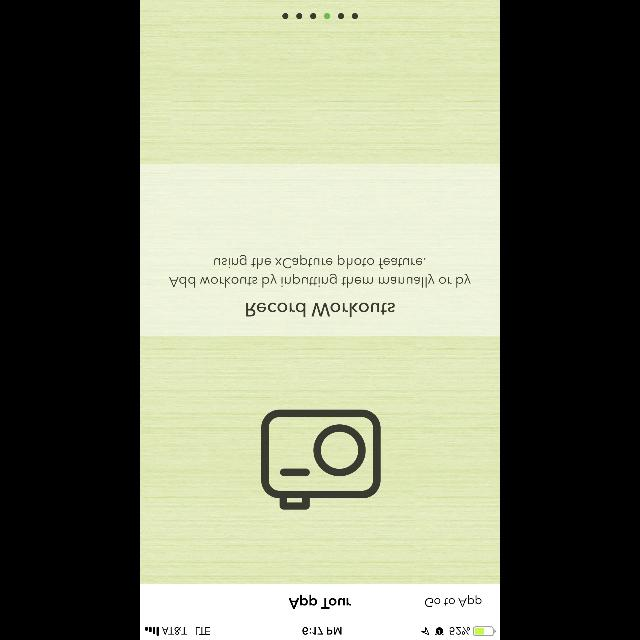image: (261, 409, 381, 509)
pageindicator: (282, 13, 358, 19)
text: (170, 255, 470, 288), (247, 302, 395, 318), (289, 594, 351, 608), (425, 596, 481, 608)
uppertaskbar: (140, 626, 500, 640)
